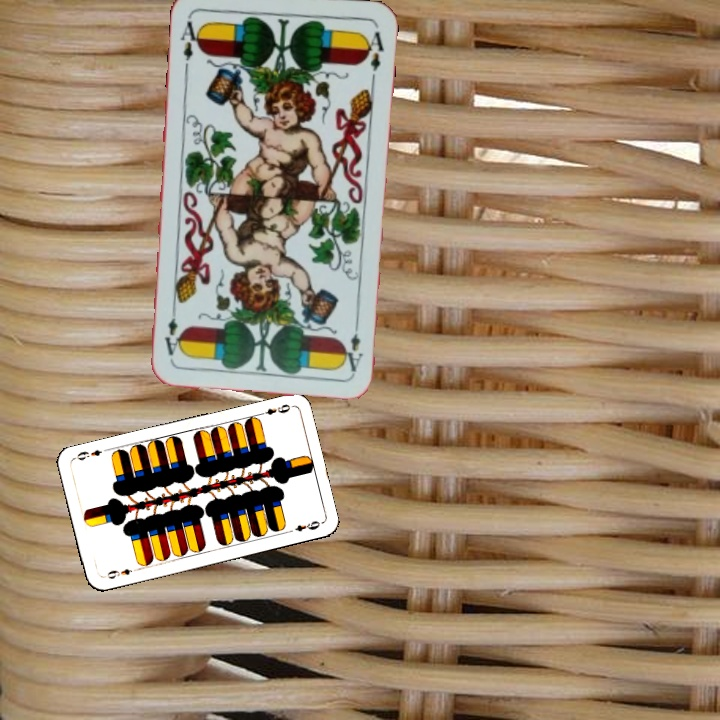E9: (254, 400, 294, 418), (100, 564, 134, 581)
EA: (176, 13, 204, 73), (340, 315, 365, 374)
